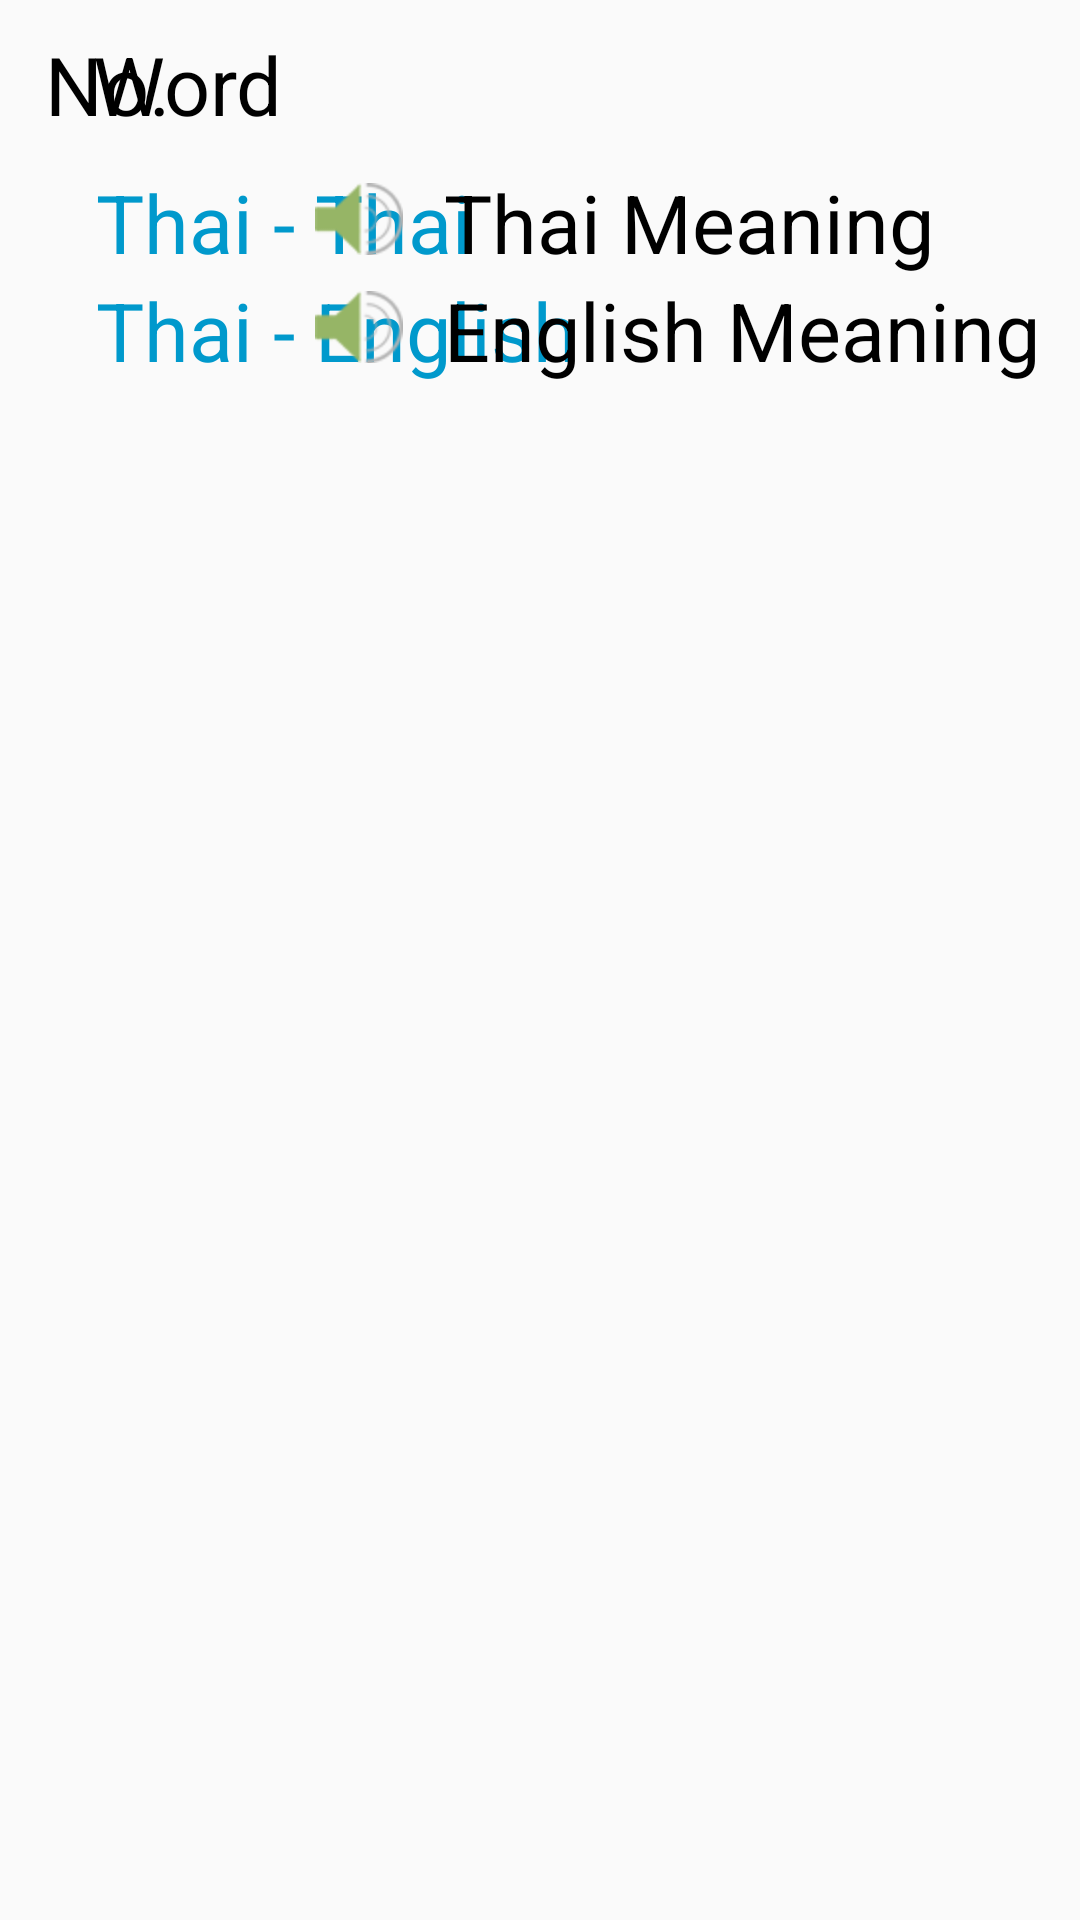

Point at icon controls on the screen. Image size 1080px x 1920px, points as (x,y).
speaker: (359,219), (359,327)
